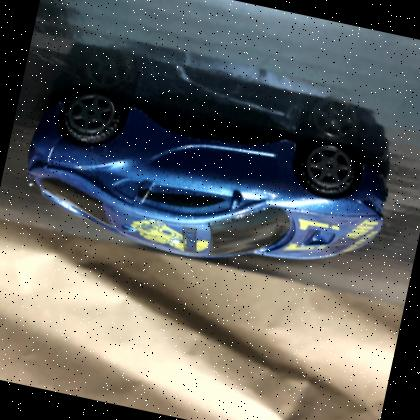Car: (27, 89, 389, 260)
